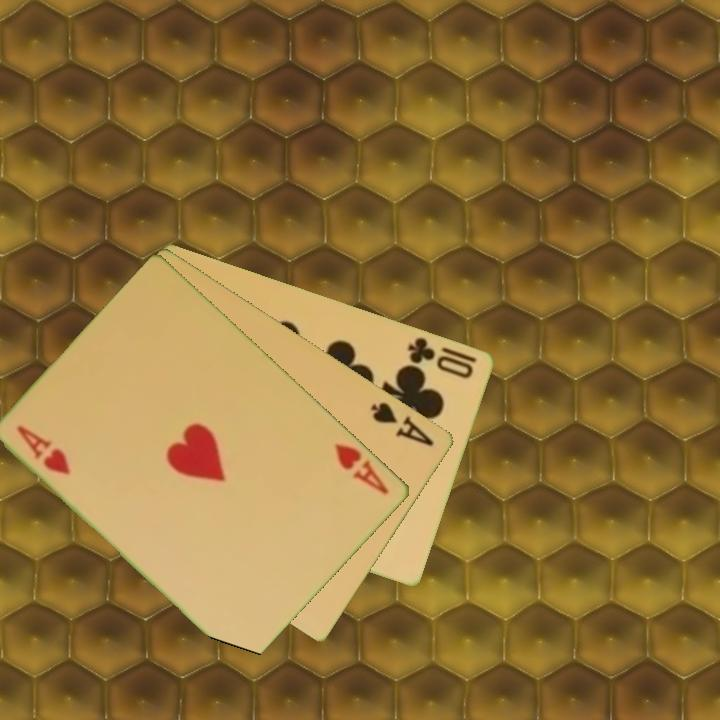10c: (404, 333, 477, 382)
Ah: (331, 439, 392, 497), (13, 421, 74, 478)
As: (367, 398, 437, 449)
